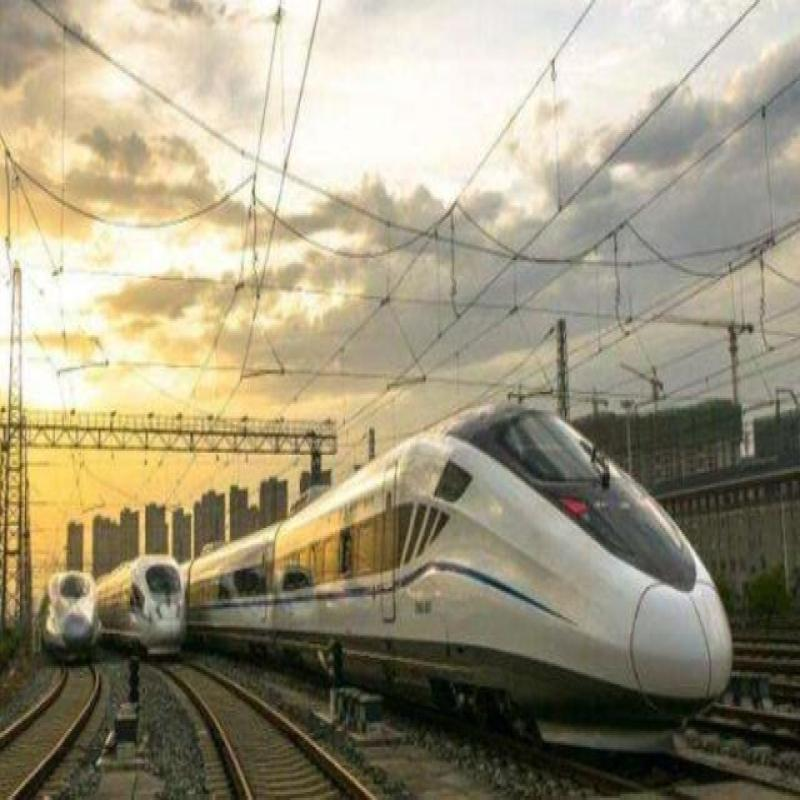train: (146, 387, 742, 750)
